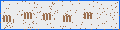m: (83, 12, 93, 20), (42, 13, 52, 21), (2, 15, 12, 23), (63, 15, 72, 23), (24, 12, 33, 20)
